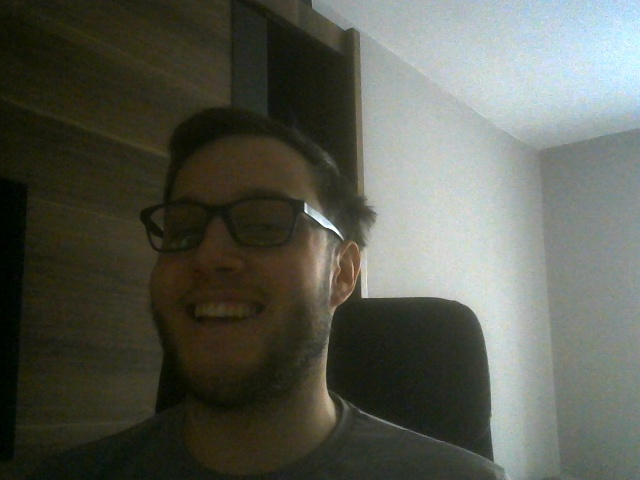happy: (146, 108, 362, 406)
